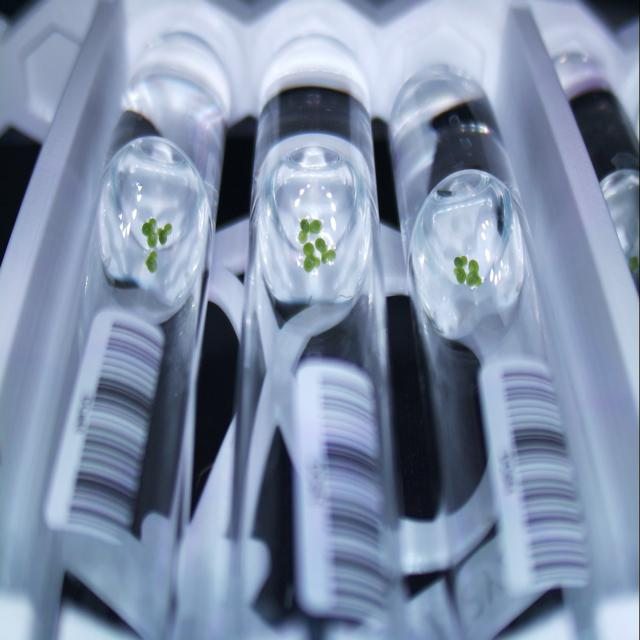Lemna-Gibba: (141, 218, 172, 247), (298, 218, 322, 243), (315, 237, 336, 264), (302, 242, 320, 272), (466, 259, 482, 289), (454, 255, 468, 284), (145, 250, 158, 273)
